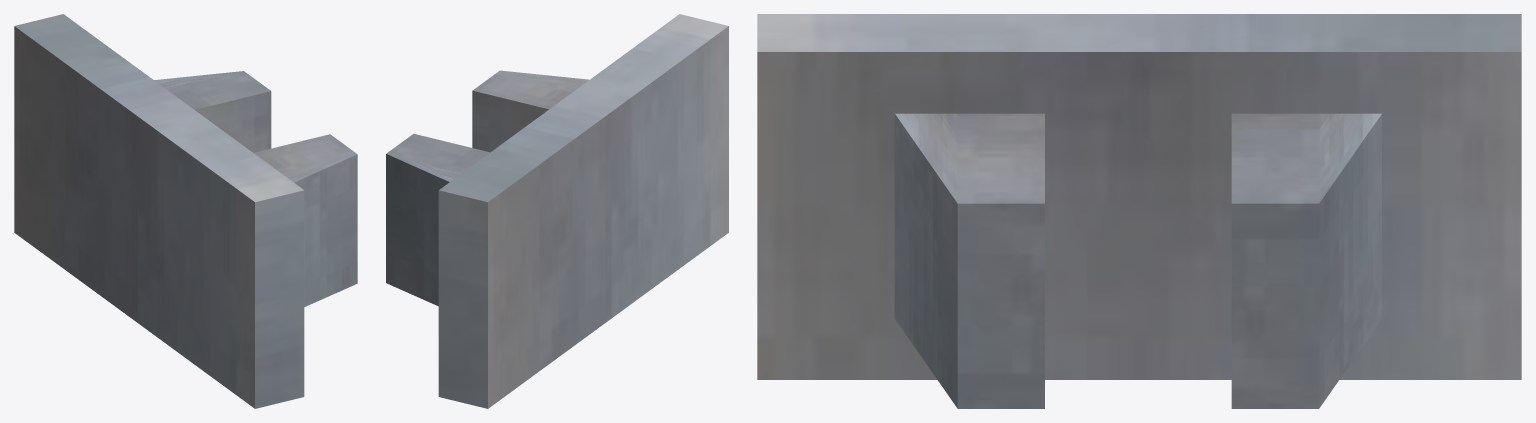
Rendered from axeholder.fbx.
The picture shows the model from 3 angles, left to right: view 1: azimuth 30°, elevation 25°; view 2: azimuth 150°, elevation 25°; view 3: azimuth 270°, elevation 25°; orthographic projection. The views are drawn at different scales.
Visible parts, largest first — view 1: axe holder; view 2: axe holder; view 3: axe holder.
Part boxes in pixels (x1,y1,x2,y2): axe holder: [14, 14, 357, 408]; axe holder: [386, 14, 728, 408]; axe holder: [757, 14, 1521, 408].
Bounding box in the file's own units: 69.16 × 82.4 × 174.
